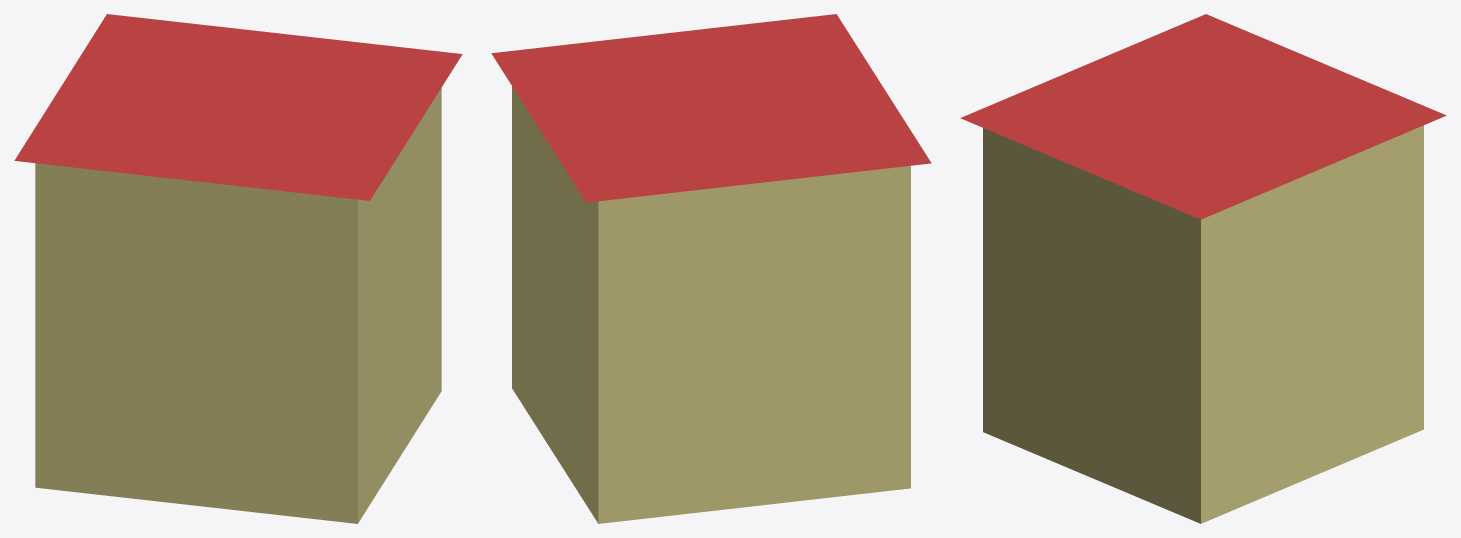
3 views of the same model, side by side, from view 1: azimuth 30°, elevation 25°; view 2: azimuth 150°, elevation 25°; view 3: azimuth 270°, elevation 25° (orthographic). The views are drawn at different scales.
Visible parts, largest first — view 1: group_5, group_3, group_4; view 2: group_5, group_3, group_4; view 3: group_5, group_3, group_4.
Boxes of the visible parts, bbox=[...] form: group_5: bbox=[35, 88, 441, 523]; group_3: bbox=[14, 14, 462, 200]; group_4: bbox=[15, 14, 461, 200]; group_5: bbox=[512, 86, 910, 523]; group_3: bbox=[491, 14, 931, 202]; group_4: bbox=[492, 14, 930, 201]; group_5: bbox=[983, 125, 1423, 523]; group_3: bbox=[960, 14, 1446, 219]; group_4: bbox=[961, 14, 1444, 218].
Bounding box in the file's own units: 7.51 × 7.51 × 5.34.
